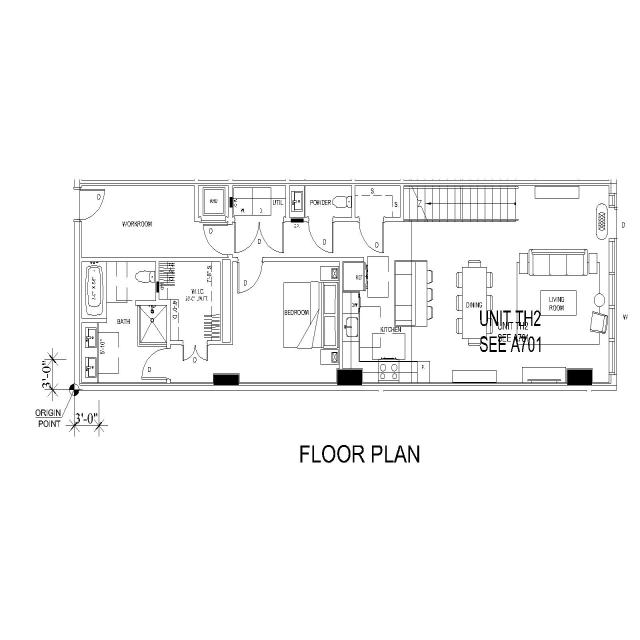Column: (565, 367, 594, 387), (336, 367, 363, 386), (212, 373, 240, 387)
Door: (234, 216, 285, 222), (608, 206, 616, 240), (165, 346, 171, 380), (74, 187, 80, 220), (237, 256, 264, 262), (228, 223, 233, 255), (308, 216, 334, 222), (358, 216, 384, 222), (182, 339, 208, 345)
Staircase: (403, 185, 519, 222)
Window: (609, 239, 616, 375)
